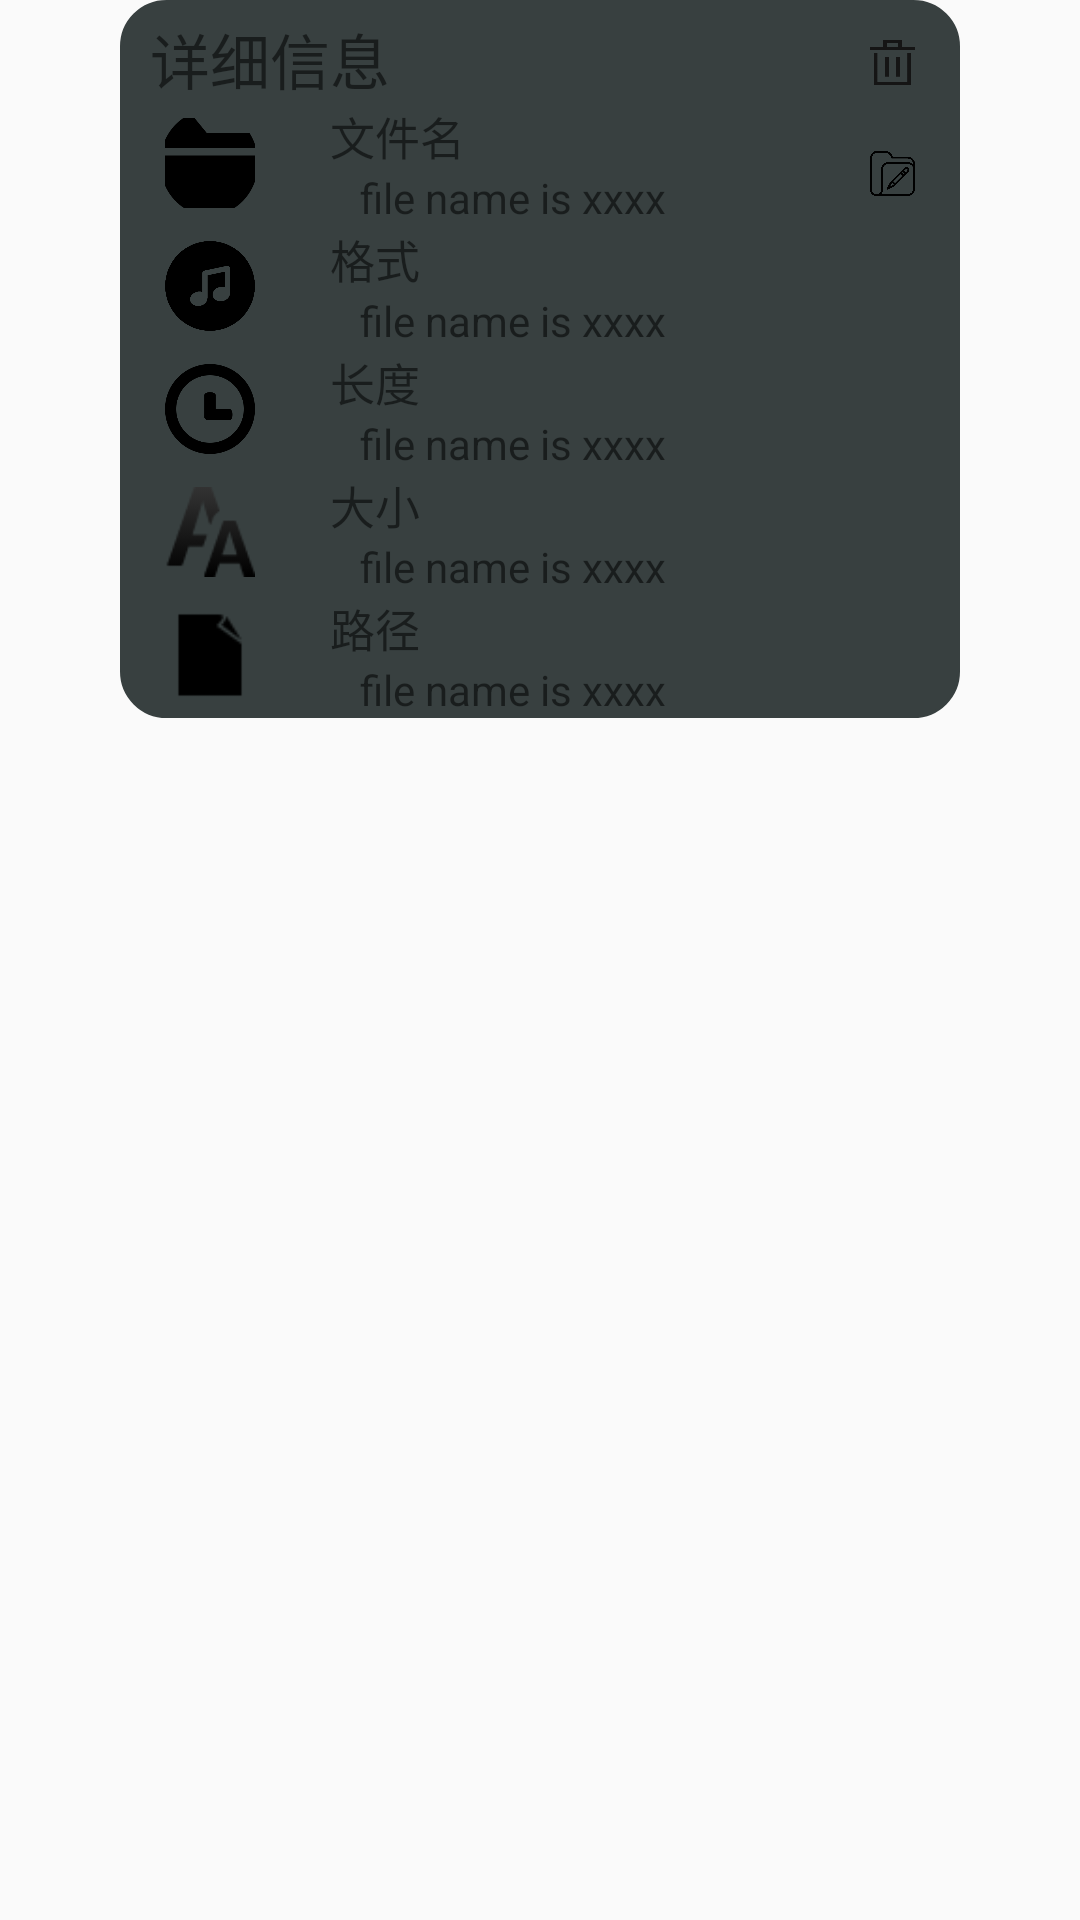

Where to tap for icons on this 1080x1920 app screen, as point (x, y):
delete: point (892, 62)
duration: point (210, 409)
musicformat: point (210, 286)
rename: point (892, 173)
size: point (211, 542)
